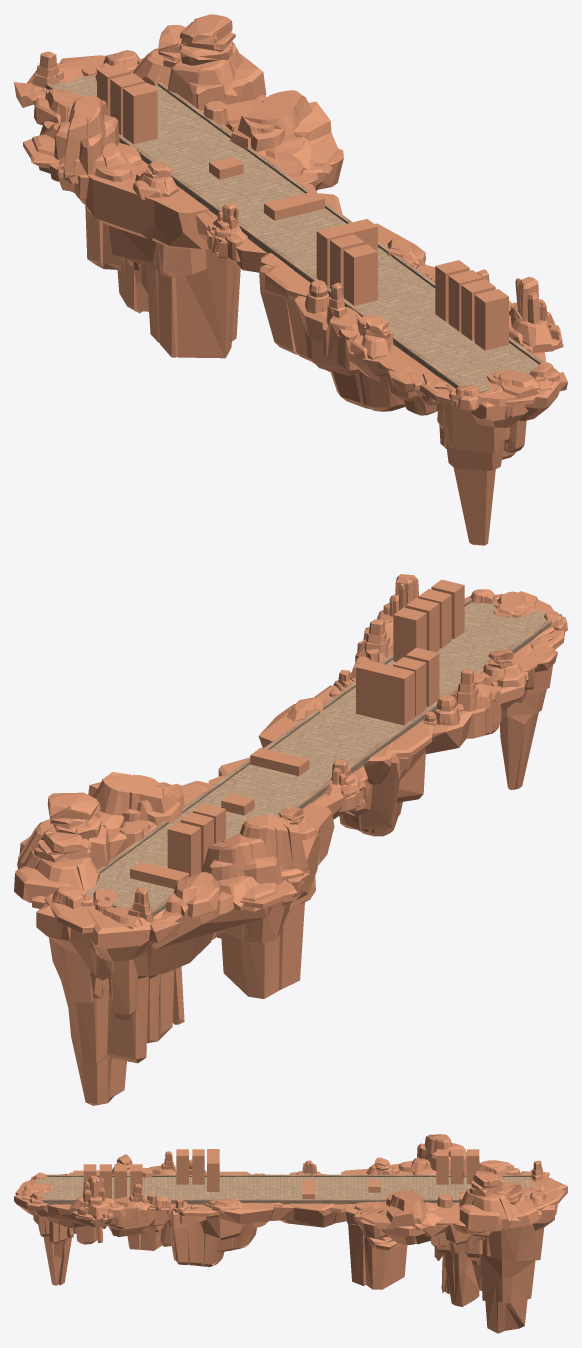
File: road_8_block_C.fbx
3 views of the same model, one above another, from view 1: azimuth 30°, elevation 25°; view 2: azimuth 150°, elevation 25°; view 3: azimuth 270°, elevation 25° (orthographic). The views are drawn at different scales.
Parts seen in each view (by area): view 1: road_8_block_C_standie, road_8_block_C, run_obstacle_dummy_5, run_obstacle_dummy_9, run_obstacle_dummy_3, lane_run_obstacle_dummy_1, lane_jump_obstacle_dummy_2, run_obstacle_dummy_6, run_obstacle_dummy_8, run_obstacle_dummy_7, run_obstacle_dummy_4, run_obstacle_dummy_2 (+1 smaller); view 2: road_8_block_C_standie, road_8_block_C, lane_run_obstacle_dummy_1, run_obstacle_dummy_1, run_obstacle_dummy_6, lane_jump_obstacle_dummy_2, lane_jump_obstacle_dummy_1, run_obstacle_dummy_9, run_obstacle_dummy_5, run_obstacle_dummy_7, run_obstacle_dummy_8, run_obstacle_dummy_4 (+1 smaller); view 3: road_8_block_C_standie, road_8_block_C, lane_run_obstacle_dummy_1, run_obstacle_dummy_2, run_obstacle_dummy_3, run_obstacle_dummy_4, run_obstacle_dummy_5, run_obstacle_dummy_7, run_obstacle_dummy_1, run_obstacle_dummy_8, run_obstacle_dummy_6.
Boxes of the visible parts, x1,y1,x2,y2 form: road_8_block_C_standie: (14, 14, 567, 545); road_8_block_C: (45, 65, 555, 396); run_obstacle_dummy_5: (343, 244, 377, 305); run_obstacle_dummy_9: (474, 289, 508, 350); run_obstacle_dummy_3: (123, 82, 157, 144); lane_run_obstacle_dummy_1: (316, 219, 377, 286); lane_jump_obstacle_dummy_2: (264, 191, 324, 220); run_obstacle_dummy_6: (435, 260, 469, 321); run_obstacle_dummy_8: (461, 279, 495, 340); run_obstacle_dummy_7: (448, 270, 482, 331); run_obstacle_dummy_4: (330, 234, 364, 295); run_obstacle_dummy_2: (110, 73, 144, 134); road_8_block_C_standie: (14, 574, 567, 1105); road_8_block_C: (84, 597, 560, 916); lane_run_obstacle_dummy_1: (356, 659, 414, 725); run_obstacle_dummy_1: (167, 822, 200, 877); run_obstacle_dummy_6: (393, 607, 426, 661); lane_jump_obstacle_dummy_2: (250, 747, 309, 776); lane_jump_obstacle_dummy_1: (130, 861, 189, 888); run_obstacle_dummy_9: (431, 579, 464, 638); run_obstacle_dummy_5: (406, 647, 439, 706); run_obstacle_dummy_7: (406, 598, 439, 652); run_obstacle_dummy_8: (418, 589, 451, 648); run_obstacle_dummy_4: (393, 657, 426, 716); road_8_block_C_standie: (14, 1134, 567, 1333); road_8_block_C: (35, 1174, 532, 1204); lane_run_obstacle_dummy_1: (207, 1149, 219, 1191); run_obstacle_dummy_2: (451, 1149, 463, 1184); run_obstacle_dummy_3: (436, 1149, 448, 1184); run_obstacle_dummy_4: (192, 1149, 204, 1184); run_obstacle_dummy_5: (176, 1149, 188, 1184); run_obstacle_dummy_7: (114, 1164, 126, 1198); run_obstacle_dummy_1: (467, 1149, 479, 1184); run_obstacle_dummy_8: (99, 1164, 111, 1198); run_obstacle_dummy_6: (130, 1164, 142, 1195).
Bounding box in the file's own units: 2790 × 2966 × 8866.
